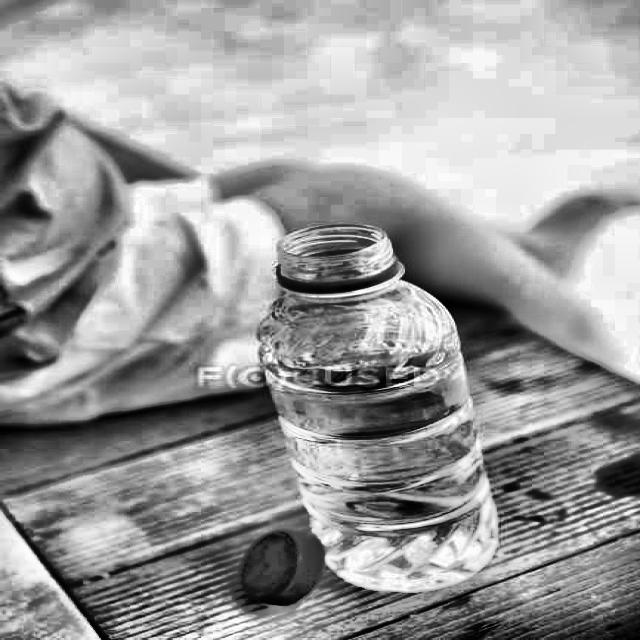waterbottle: (220, 217, 513, 612)
